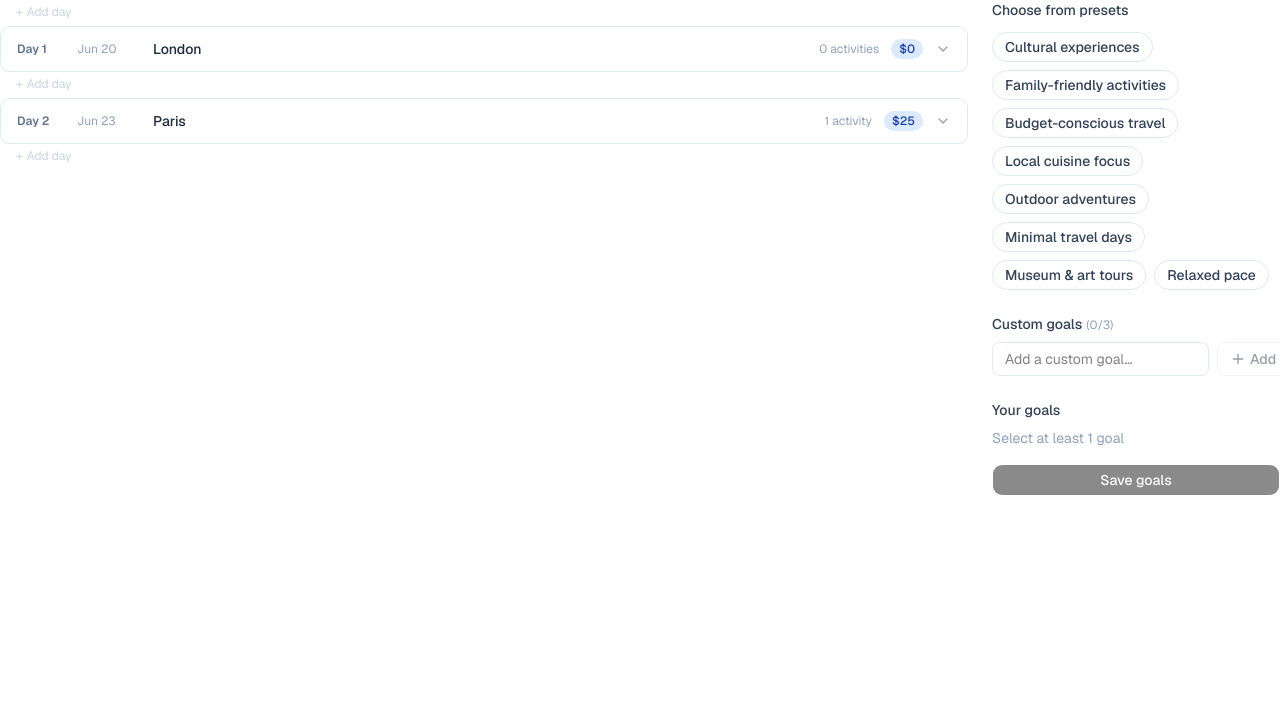
Test case: RemoveDayDialog shows non-negotiable warning when day has a must_visit activity
Click the text "Paris" at (169, 121), box x1=153 y1=112 x2=186 y2=130
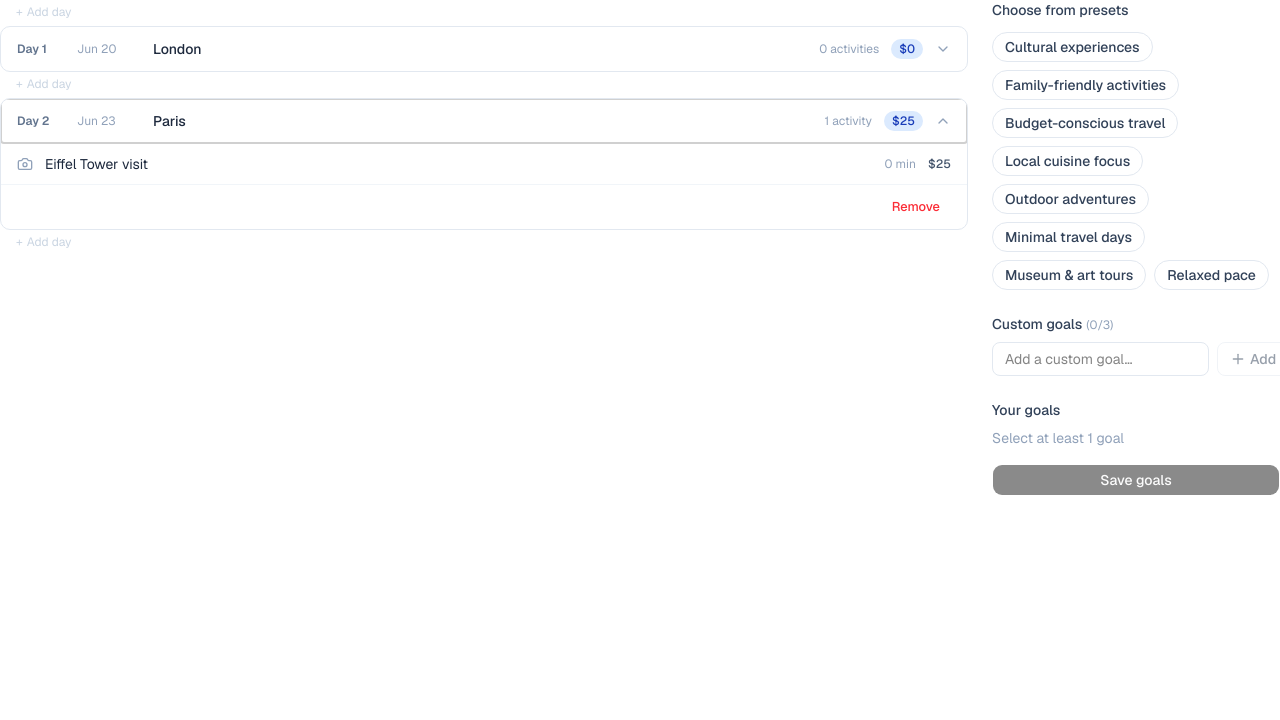
Click the button "Remove" at (916, 207), box x1=881 y1=193 x2=951 y2=221
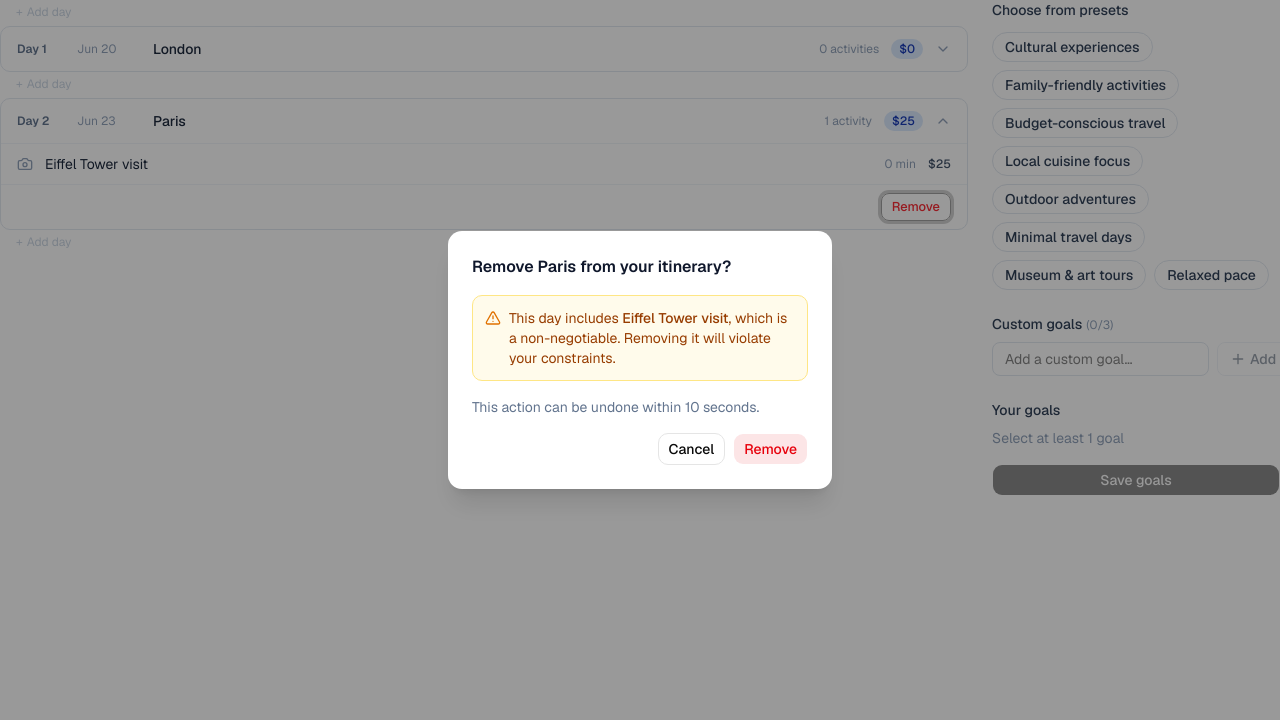
Result: the text "non-negotiable" is shown at x1=509 y1=309 x2=787 y2=367
Result: the text "Eiffel Tower visit" is shown at x1=622 y1=309 x2=728 y2=327
